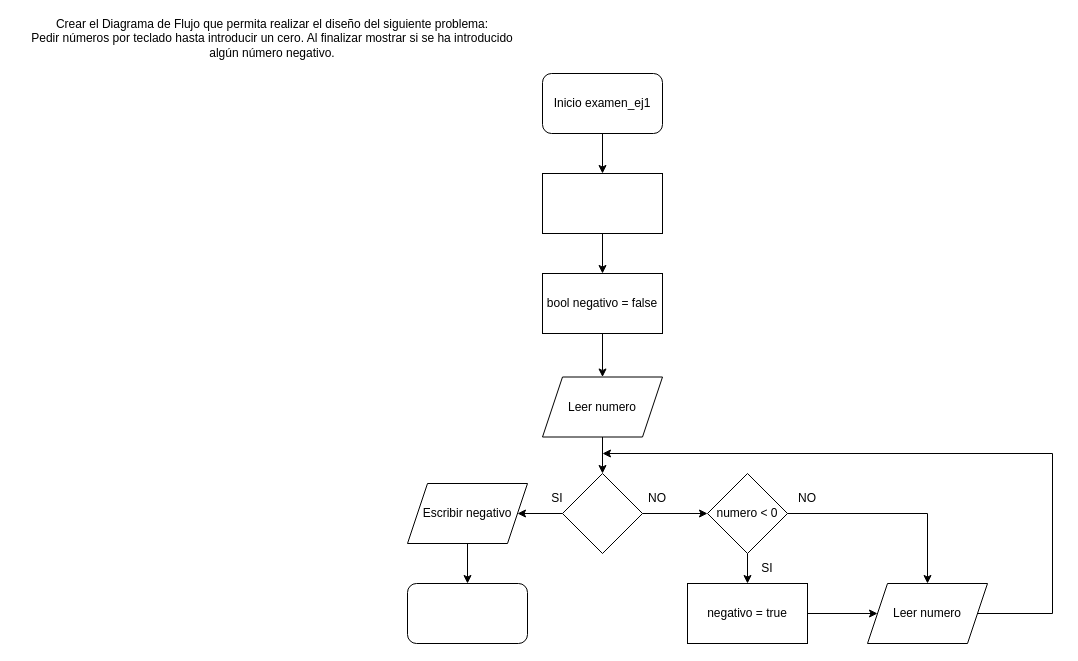
Some shapes in this 1078 by 661 pixel diagram are drawn without their labels. The shapes that lost their labels are listed below. From the top down, each one's centre as x and y in pixels, then its label:
At (x=602, y=203): "int numero".
At (x=602, y=513): "numero = 0".
At (x=467, y=613): "Fin examen_ej1".
